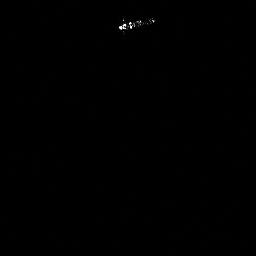ship: (118, 17, 156, 33)
